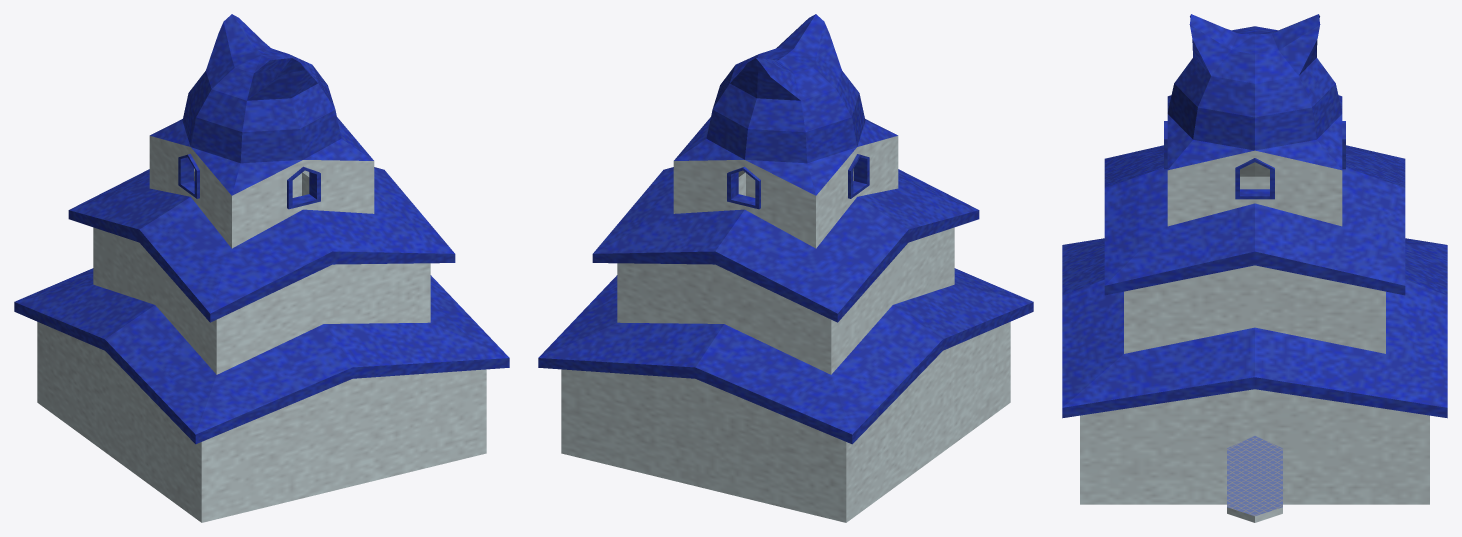
Rendered from Catscape Cat-Thedral.glb.
The picture shows the model from 3 angles, left to right: view 1: azimuth 30°, elevation 25°; view 2: azimuth 150°, elevation 25°; view 3: azimuth 270°, elevation 25°; orthographic projection. The views are drawn at different scales.
Visible parts, largest first — view 1: Cat-Thedral; view 2: Cat-Thedral; view 3: Cat-Thedral.
Part boxes in pixels (<box>): Cat-Thedral: <box>14,14,509,522</box>; Cat-Thedral: <box>538,14,1033,522</box>; Cat-Thedral: <box>1062,14,1447,522</box>.
Size of the model in its own units: 56.45 by 63.09 by 52.9.
Materials: 3 (3 with a texture image).
